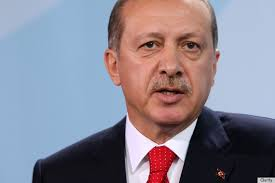middle_eastern_male: (128, 14, 209, 122)
